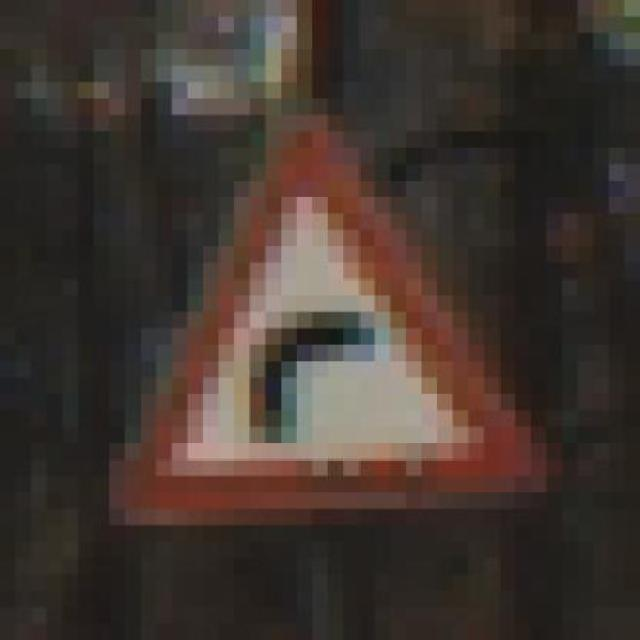Dangerous Rright Curve Ahead: (94, 98, 546, 525)
